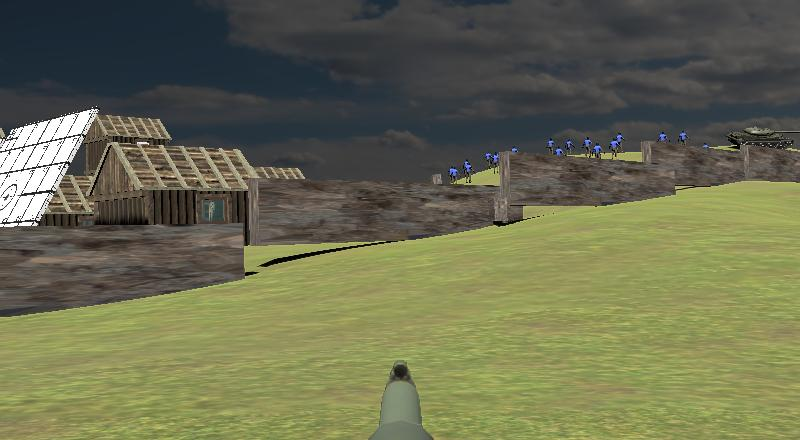House: (83, 130, 264, 242), (38, 171, 102, 230)
Human: (608, 129, 625, 159), (462, 157, 476, 187), (580, 134, 595, 159), (590, 140, 606, 161), (446, 162, 459, 187), (491, 150, 501, 177), (484, 149, 494, 174), (677, 128, 690, 147), (656, 130, 670, 146)
Tank: (723, 122, 800, 154)
